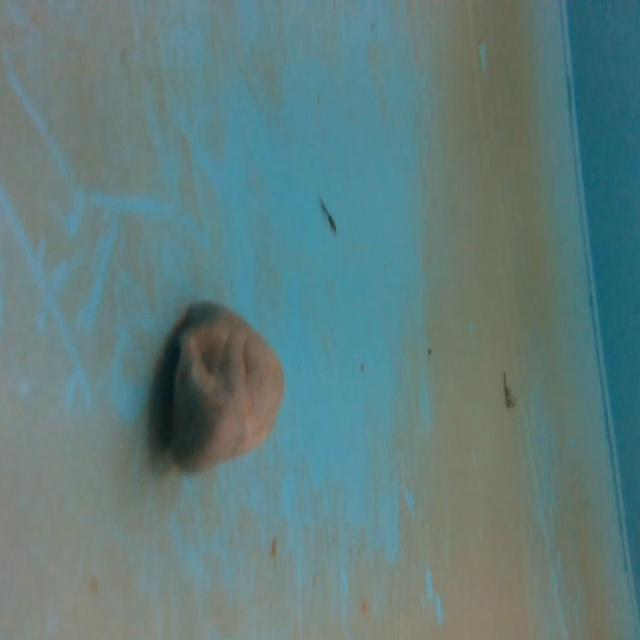rock: (160, 298, 292, 482)
